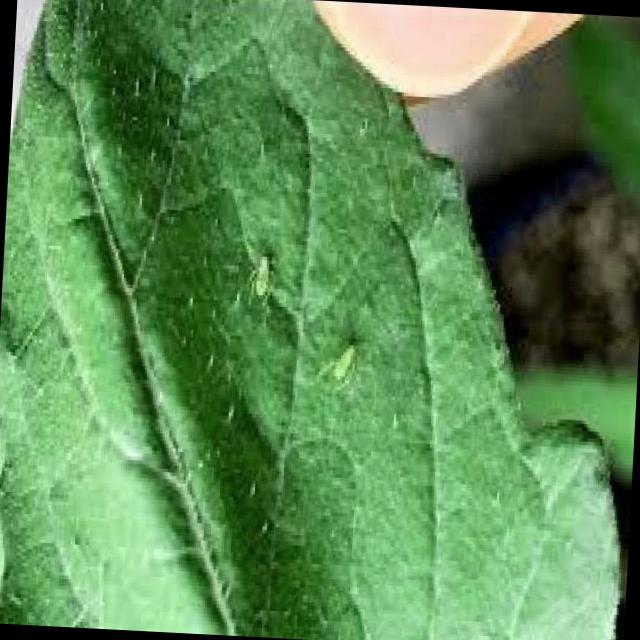aphid: (317, 326, 367, 408), (240, 240, 286, 316)
